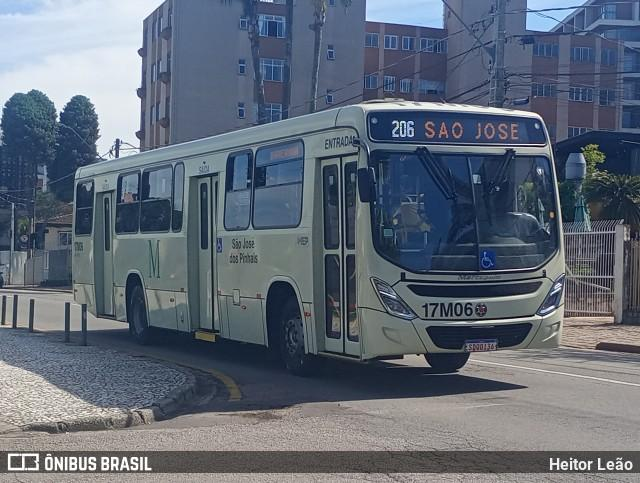SAO JOSE: (419, 117, 524, 143)
